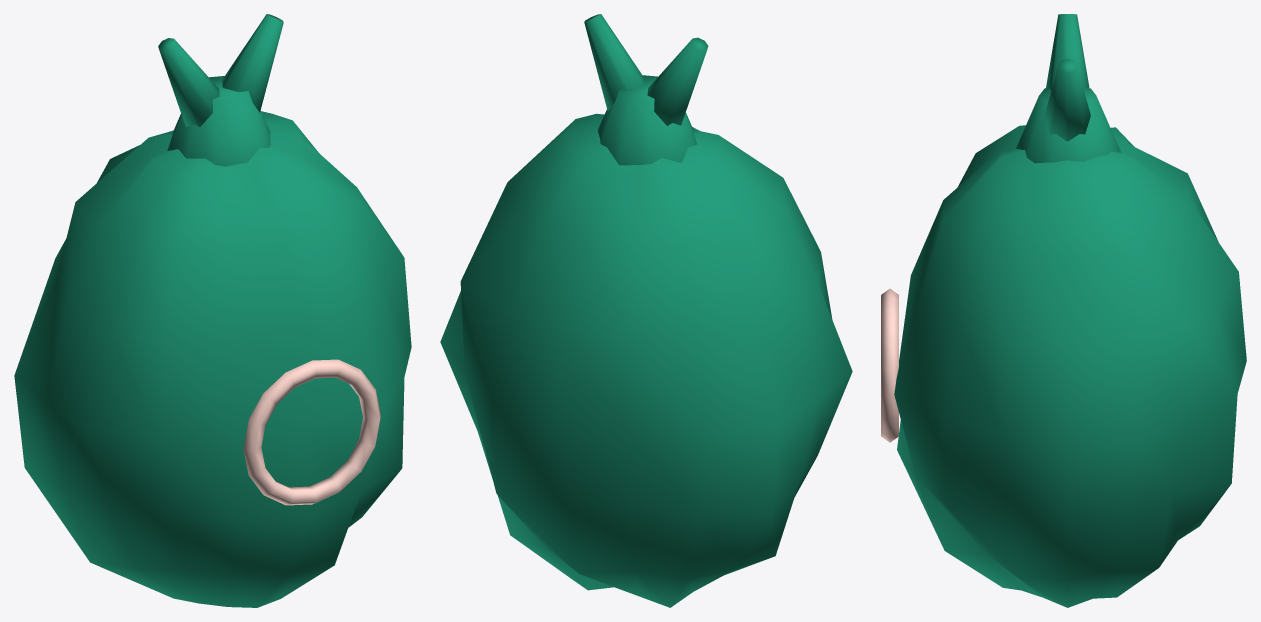
File: TrashBag.glb
The picture shows the model from 3 angles, left to right: view 1: azimuth 30°, elevation 25°; view 2: azimuth 150°, elevation 25°; view 3: azimuth 270°, elevation 25°; orthographic projection. The views are drawn at different scales.
Parts seen in each view (by area): view 1: TrashBag; view 2: TrashBag; view 3: TrashBag.
Boxes of the visible parts, x1,y1,x2,y2 form: TrashBag: (14,14,411,607); TrashBag: (440,14,852,607); TrashBag: (881,14,1246,607).
Size of the model in its own units: 0.7808 by 1.16 by 0.7.
